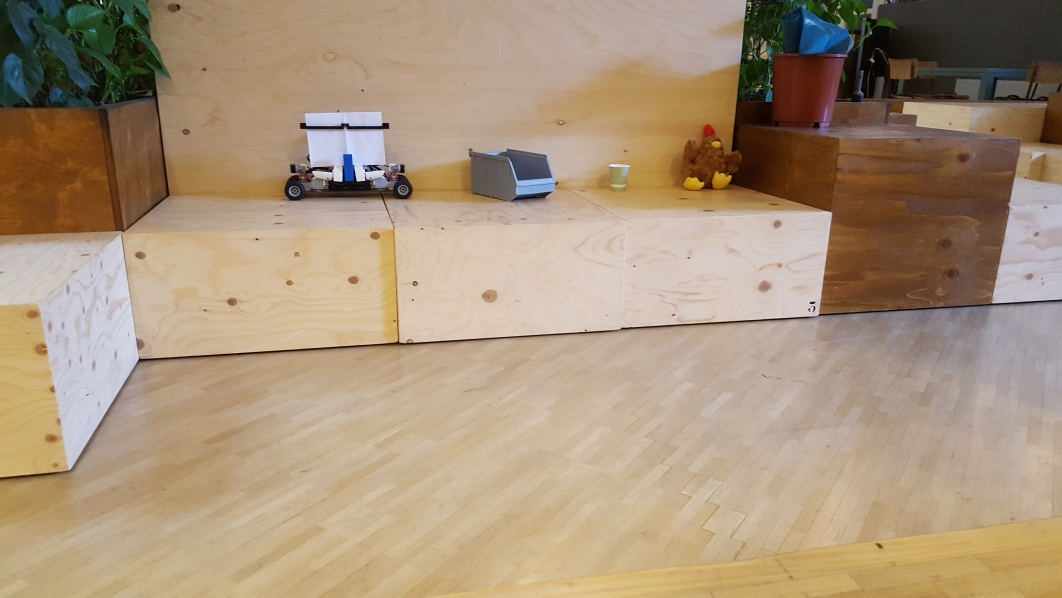beam: (340, 150, 358, 182)
chicken: (679, 124, 743, 191)
cup: (609, 162, 631, 192)
tray: (466, 147, 559, 203)
